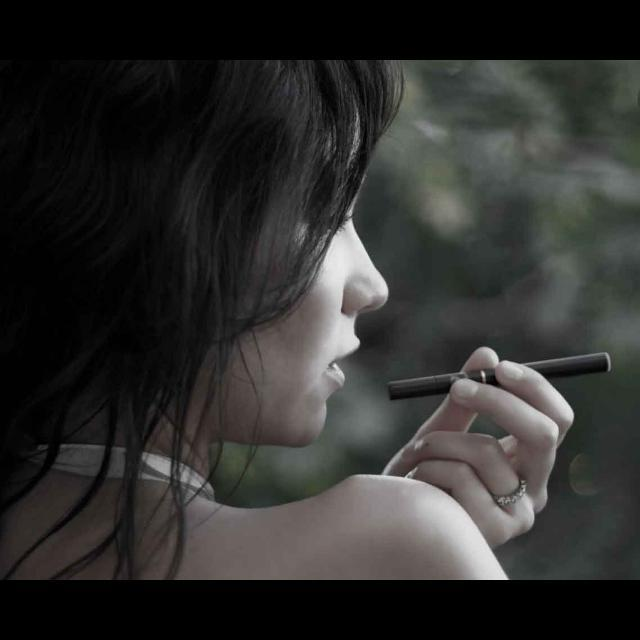rokok: (384, 346, 620, 402)
